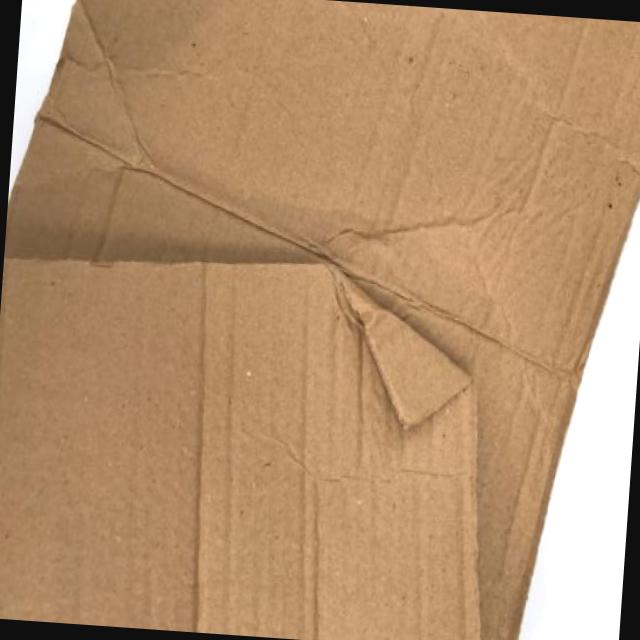cardboard: (5, 0, 639, 639), (0, 260, 479, 639)
